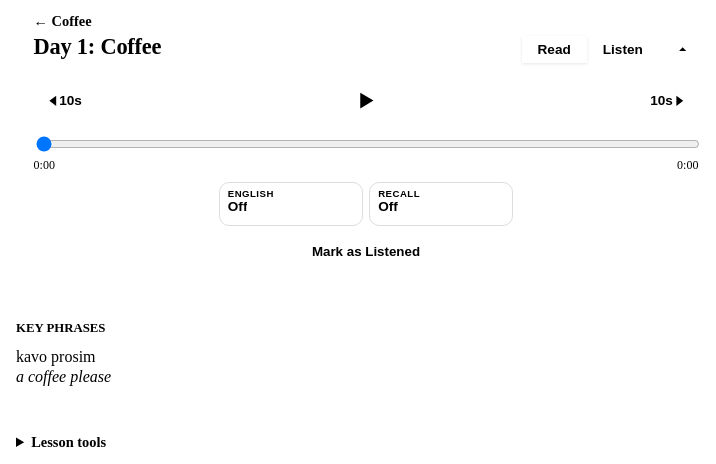
Test: /c/[curriculumId]/l/[lessonId] page › B1 — check-your-work link and fully-acquired state › shows 'Check your work — review N words' link when listened and N > 0
The width and height of the screenshot is (716, 464).
Click the button "Listen" at point(623, 50), box [587,36,659,63]
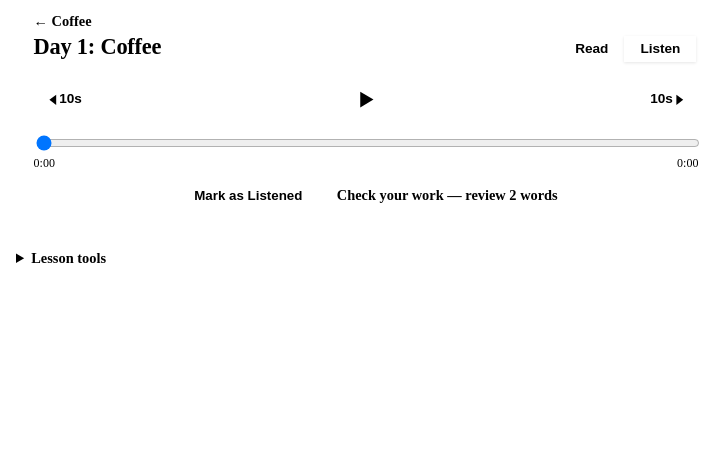
Now the link "Check your work — review 2 words" is shown, box [337,187,558,204]
